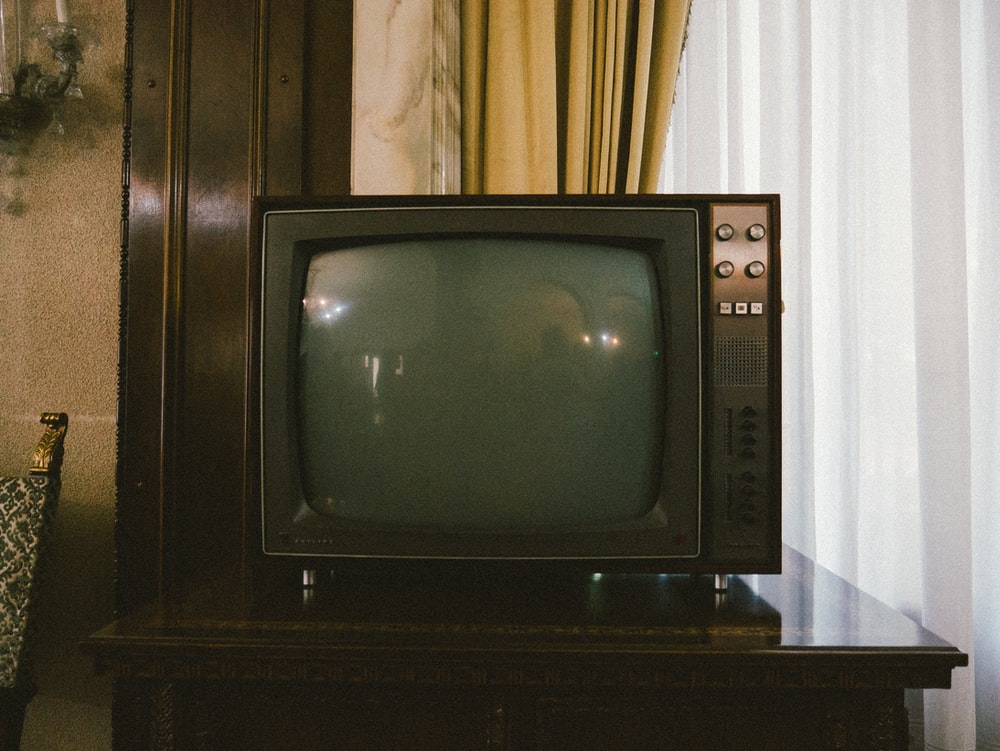tv: (243, 190, 789, 588)
